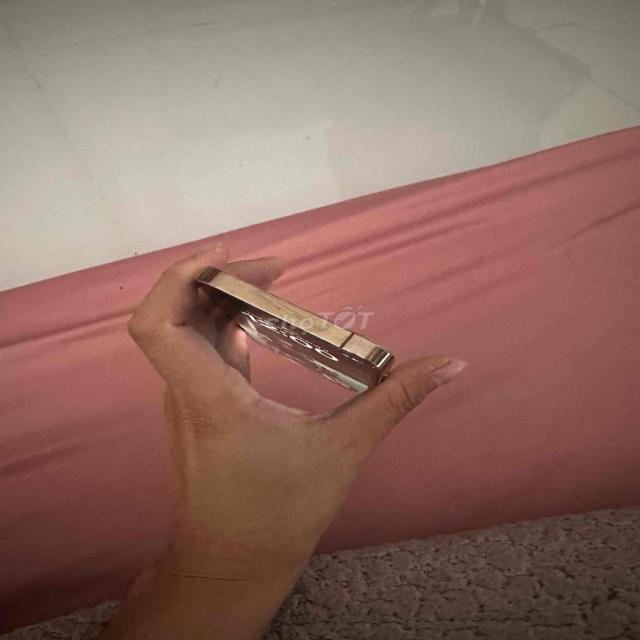gen_12_13: (185, 266, 411, 399)
